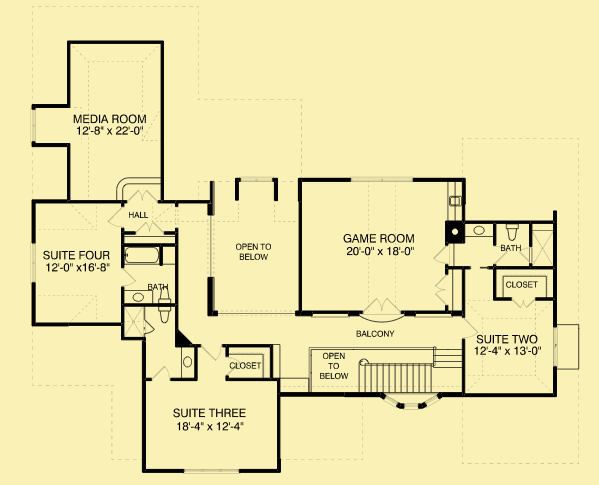door: (361, 296, 404, 316), (432, 273, 450, 308)
large_sink: (502, 221, 521, 243), (153, 307, 172, 324), (154, 288, 171, 305)
small_sink: (464, 221, 495, 240), (123, 288, 153, 307), (179, 345, 194, 380)
stairs: (356, 348, 463, 393)
tub: (122, 244, 163, 268)
windows: (347, 174, 415, 185), (30, 238, 39, 284), (27, 107, 38, 139)
